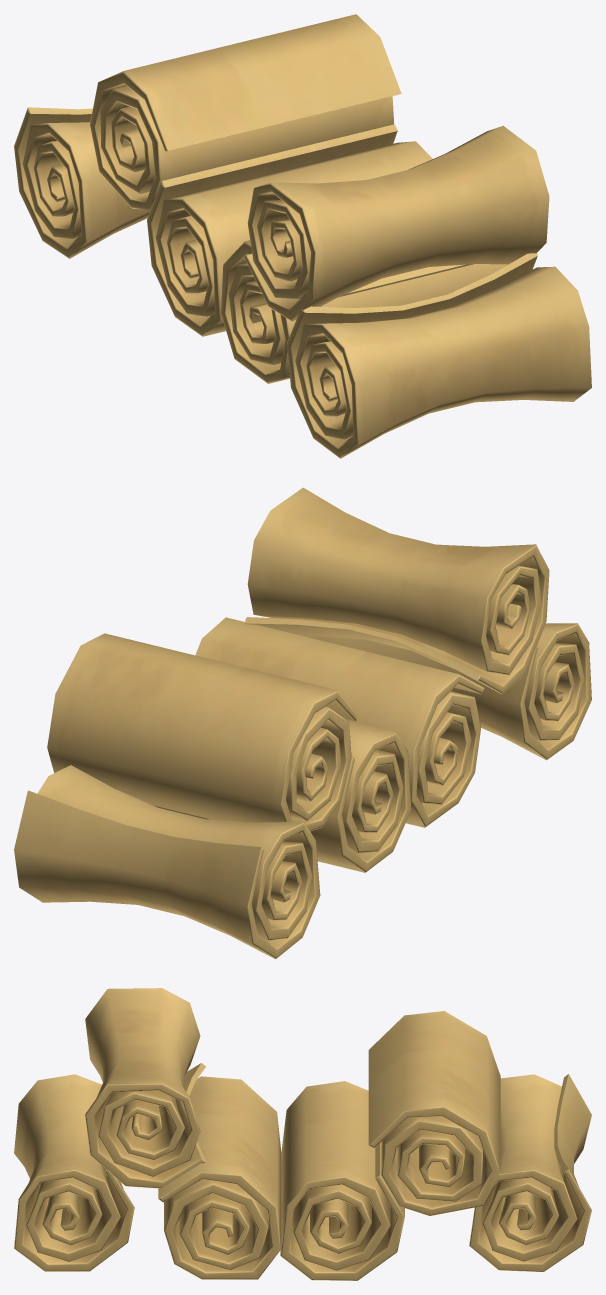
The model's file is Scrolls_6.fbx.
The picture shows the model from 3 angles, top to bottom: view 1: azimuth 30°, elevation 25°; view 2: azimuth 150°, elevation 25°; view 3: azimuth 270°, elevation 25°; orthographic projection. The views are drawn at different scales.
Visible parts, largest first — view 1: roll, roll1 (2), roll (1), roll1 (1), roll (4), roll1; view 2: roll1 (2), roll (1), roll (4), roll1, roll, roll1 (1); view 3: roll1 (2), roll (1), roll1 (1), roll1, roll (4), roll.
Part boxes in pixels (x1,y1,x2,y2): roll: [287, 253, 591, 458]; roll1 (2): [90, 14, 401, 210]; roll (1): [244, 125, 549, 321]; roll1 (1): [147, 124, 432, 336]; roll (4): [14, 107, 150, 258]; roll1: [220, 240, 507, 383]; roll1 (2): [47, 633, 358, 831]; roll (1): [244, 487, 549, 694]; roll (4): [14, 765, 320, 959]; roll1: [195, 617, 484, 827]; roll: [306, 623, 591, 760]; roll1 (1): [153, 721, 411, 872]; roll1 (2): [368, 1011, 500, 1215]; roll (1): [85, 988, 206, 1188]; roll1 (1): [280, 1081, 404, 1280]; roll1: [158, 1076, 281, 1279]; roll (4): [469, 1074, 591, 1271]; roll: [14, 1074, 134, 1271].
Bounding box in the file's own units: 3 × 2.52 × 6.99.
